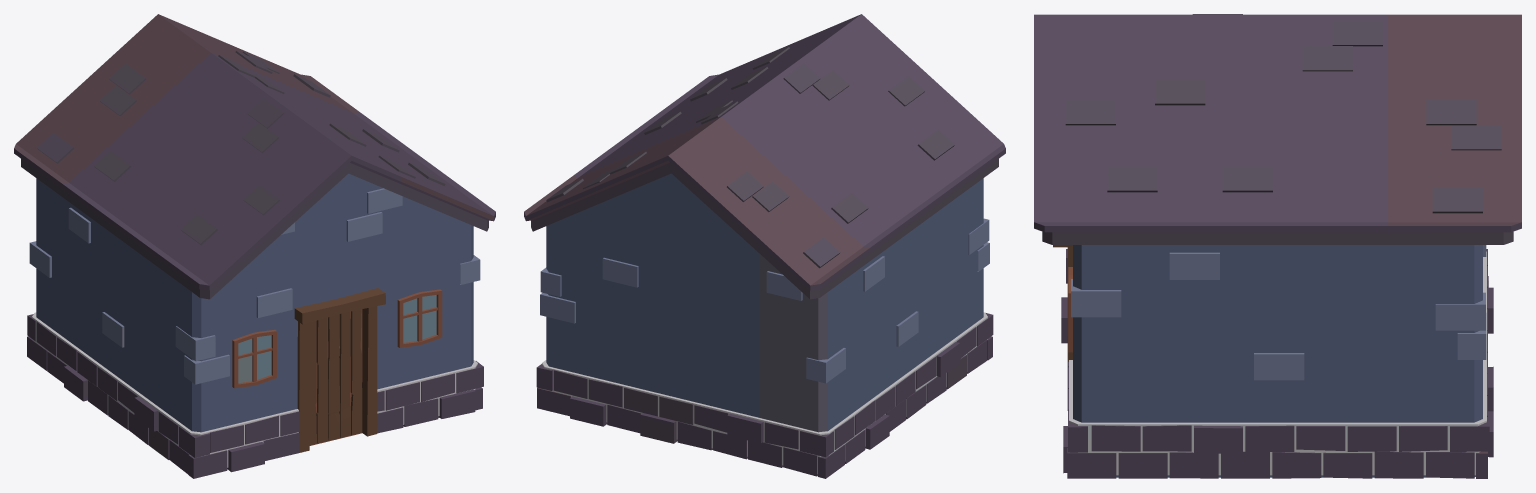
File: 1Story GableRoof.glb
3 renders of one model, left to right at view 1: azimuth 30°, elevation 25°; view 2: azimuth 150°, elevation 25°; view 3: azimuth 270°, elevation 25°, orthographic. The views are drawn at different scales.
Visible parts, largest first — view 1: 1Story_GableRoof; view 2: 1Story_GableRoof; view 3: 1Story_GableRoof.
Part boxes in pixels (bbox=[...]): 1Story_GableRoof: bbox=[14, 14, 495, 478]; 1Story_GableRoof: bbox=[524, 14, 1005, 478]; 1Story_GableRoof: bbox=[1034, 14, 1521, 478].
Size of the model in its own units: 5.05 by 4.86 by 5.71.
Materials: 1 (1 with a texture image).
